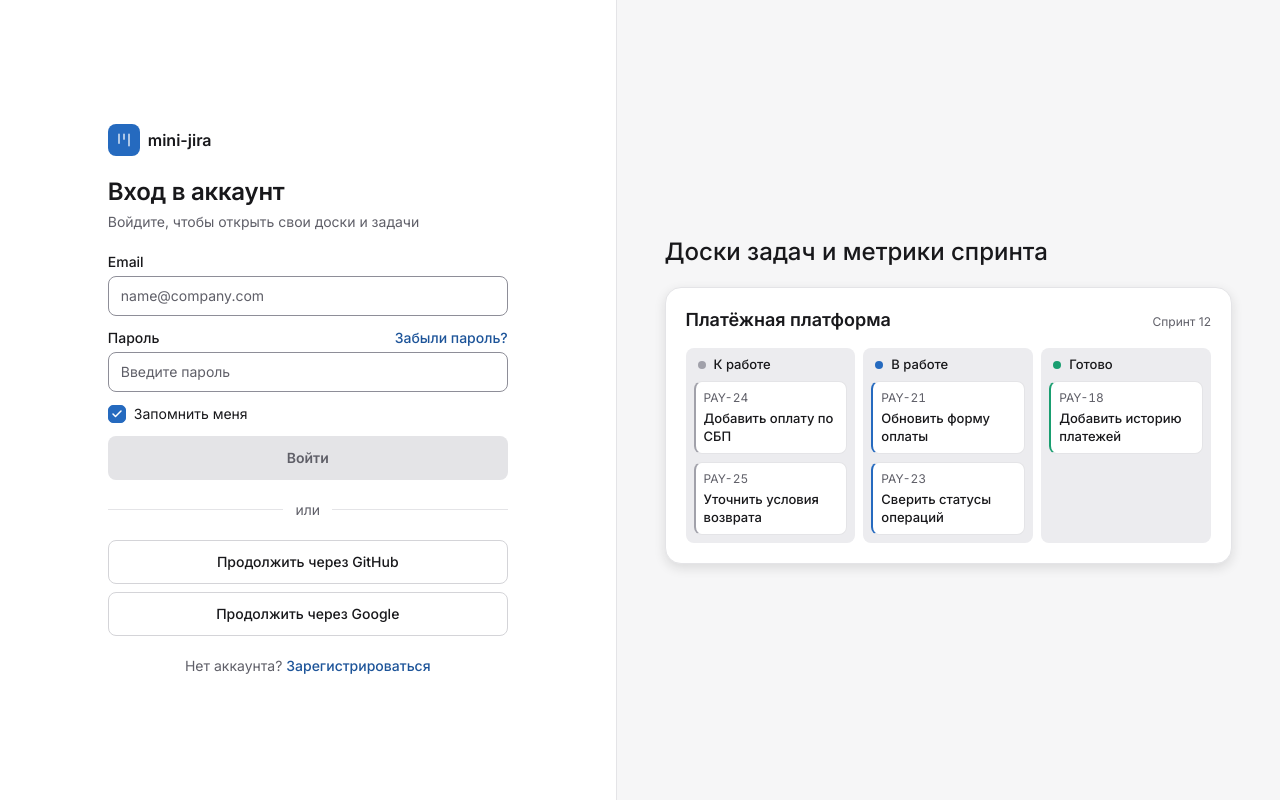
вход и регистрация › вход по паролю и ошибка сервера
The width and height of the screenshot is (1280, 800).
Type "user@example.com" into the field labelled "Email" at (308, 296), box [108,276,508,316]
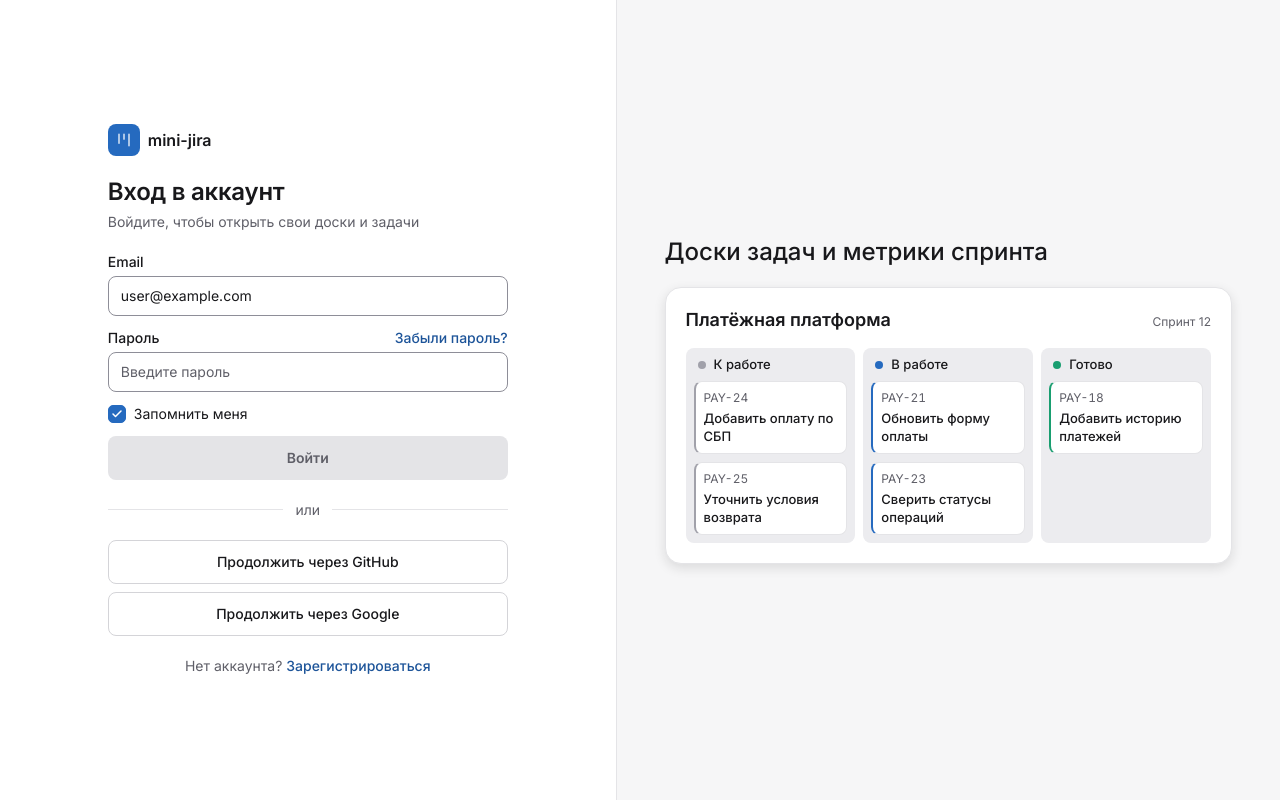
Type "secret" into the password field labelled "Пароль" at (308, 372), box [108,352,508,392]
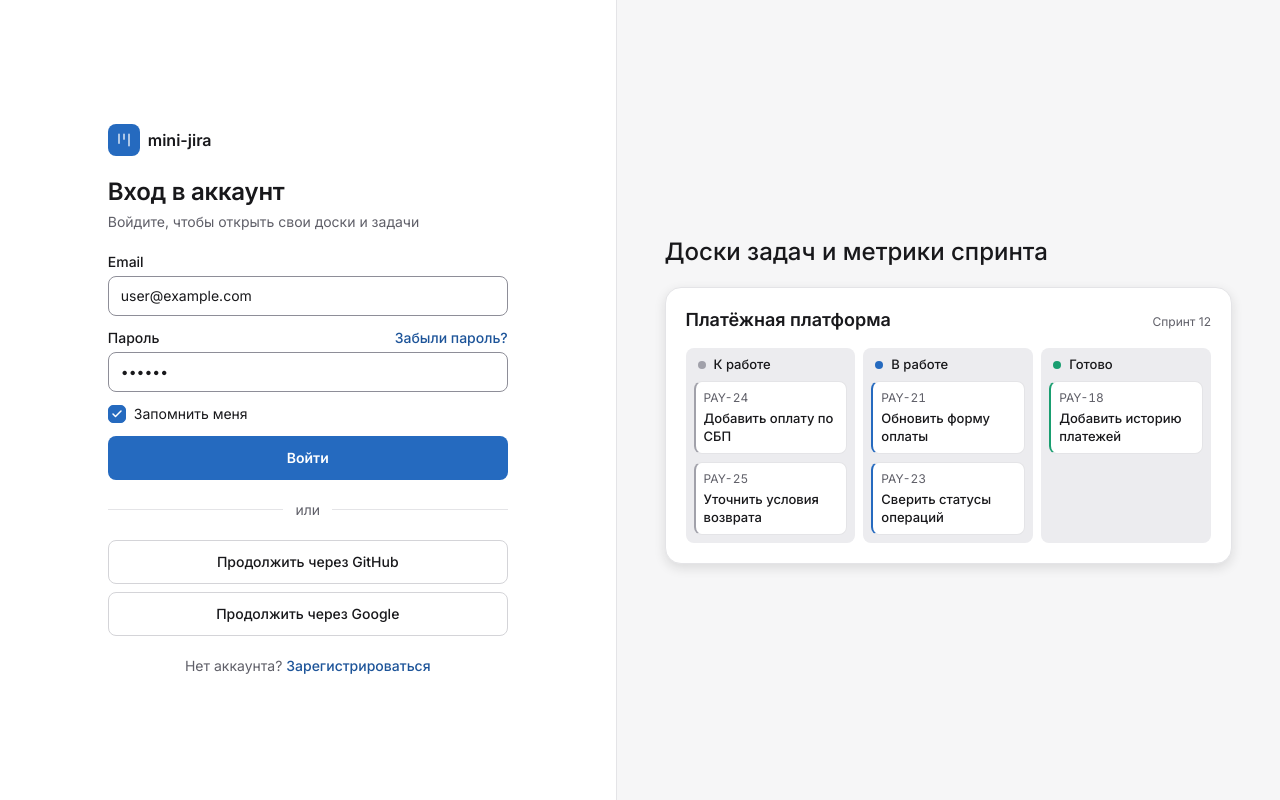
Click the button "Войти" at (308, 458), box [108,436,508,480]
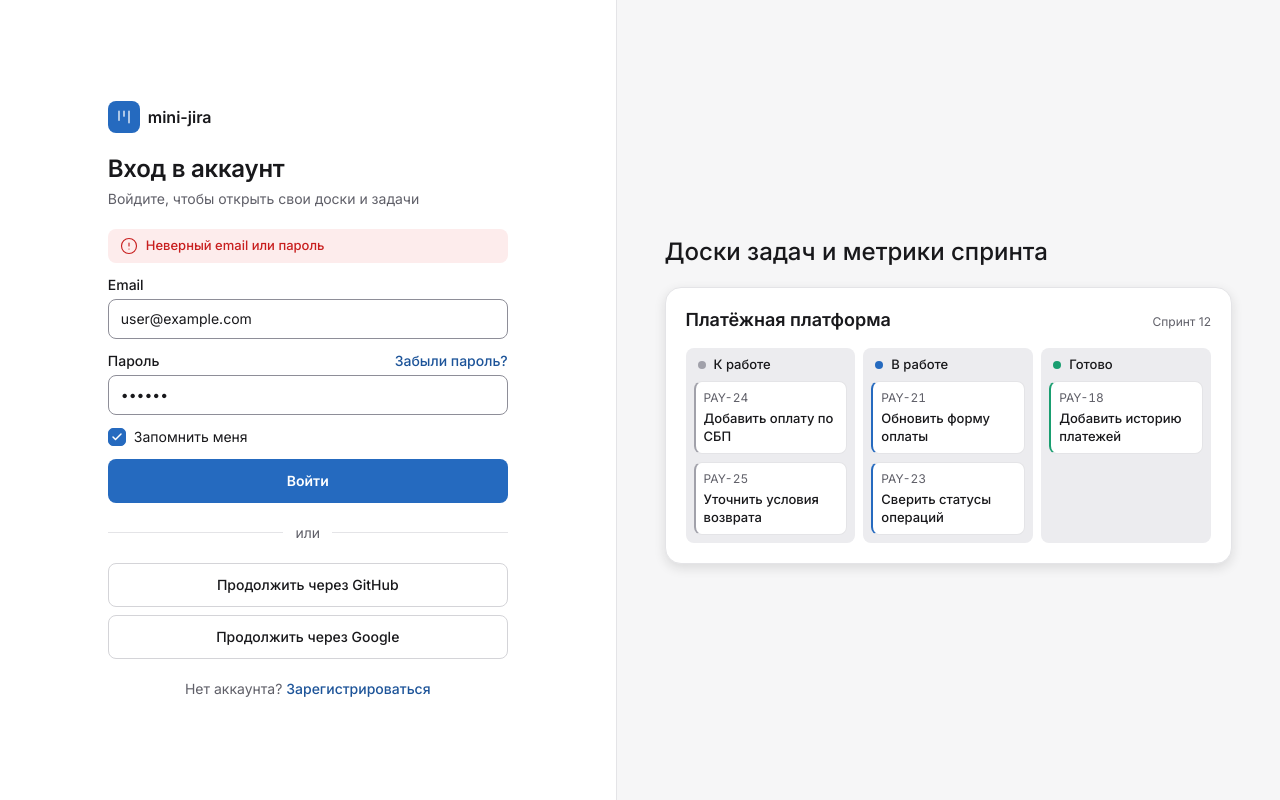
Expected: the text "Неверный email или пароль" is shown, [146,237,324,253]
